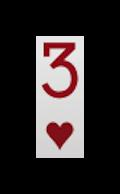3H: (38, 39, 81, 154)
